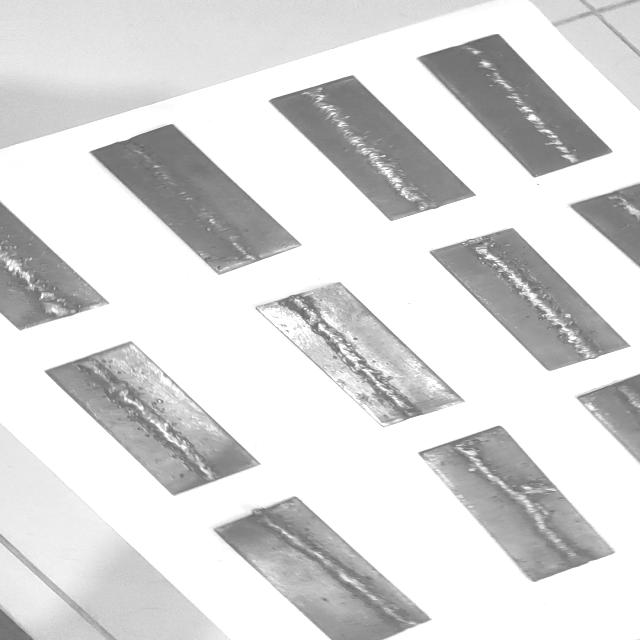Bad Weld: (459, 440, 591, 565)
Defect: (500, 479, 563, 502)
Good Weld: (254, 509, 417, 628), (289, 292, 421, 416), (306, 88, 438, 211), (83, 362, 218, 481), (127, 140, 260, 260), (473, 236, 599, 359), (462, 44, 584, 164), (0, 242, 75, 320)
